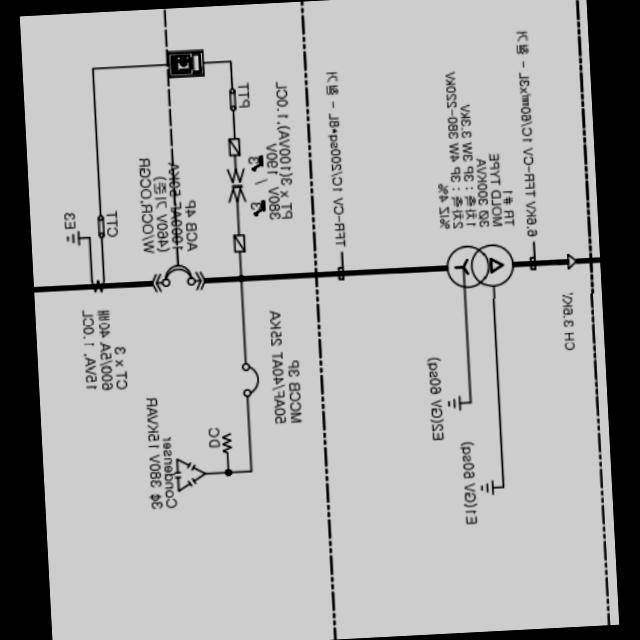ACB: (164, 265, 194, 286)
CH: (567, 253, 577, 268)
CT: (91, 276, 107, 292)
GND: (480, 476, 496, 496), (66, 228, 82, 247), (448, 392, 463, 412)
MCCB: (242, 361, 260, 396)
PF2: (230, 136, 242, 156), (234, 234, 246, 252)
PT: (227, 168, 247, 202)
SC: (174, 456, 206, 489)
